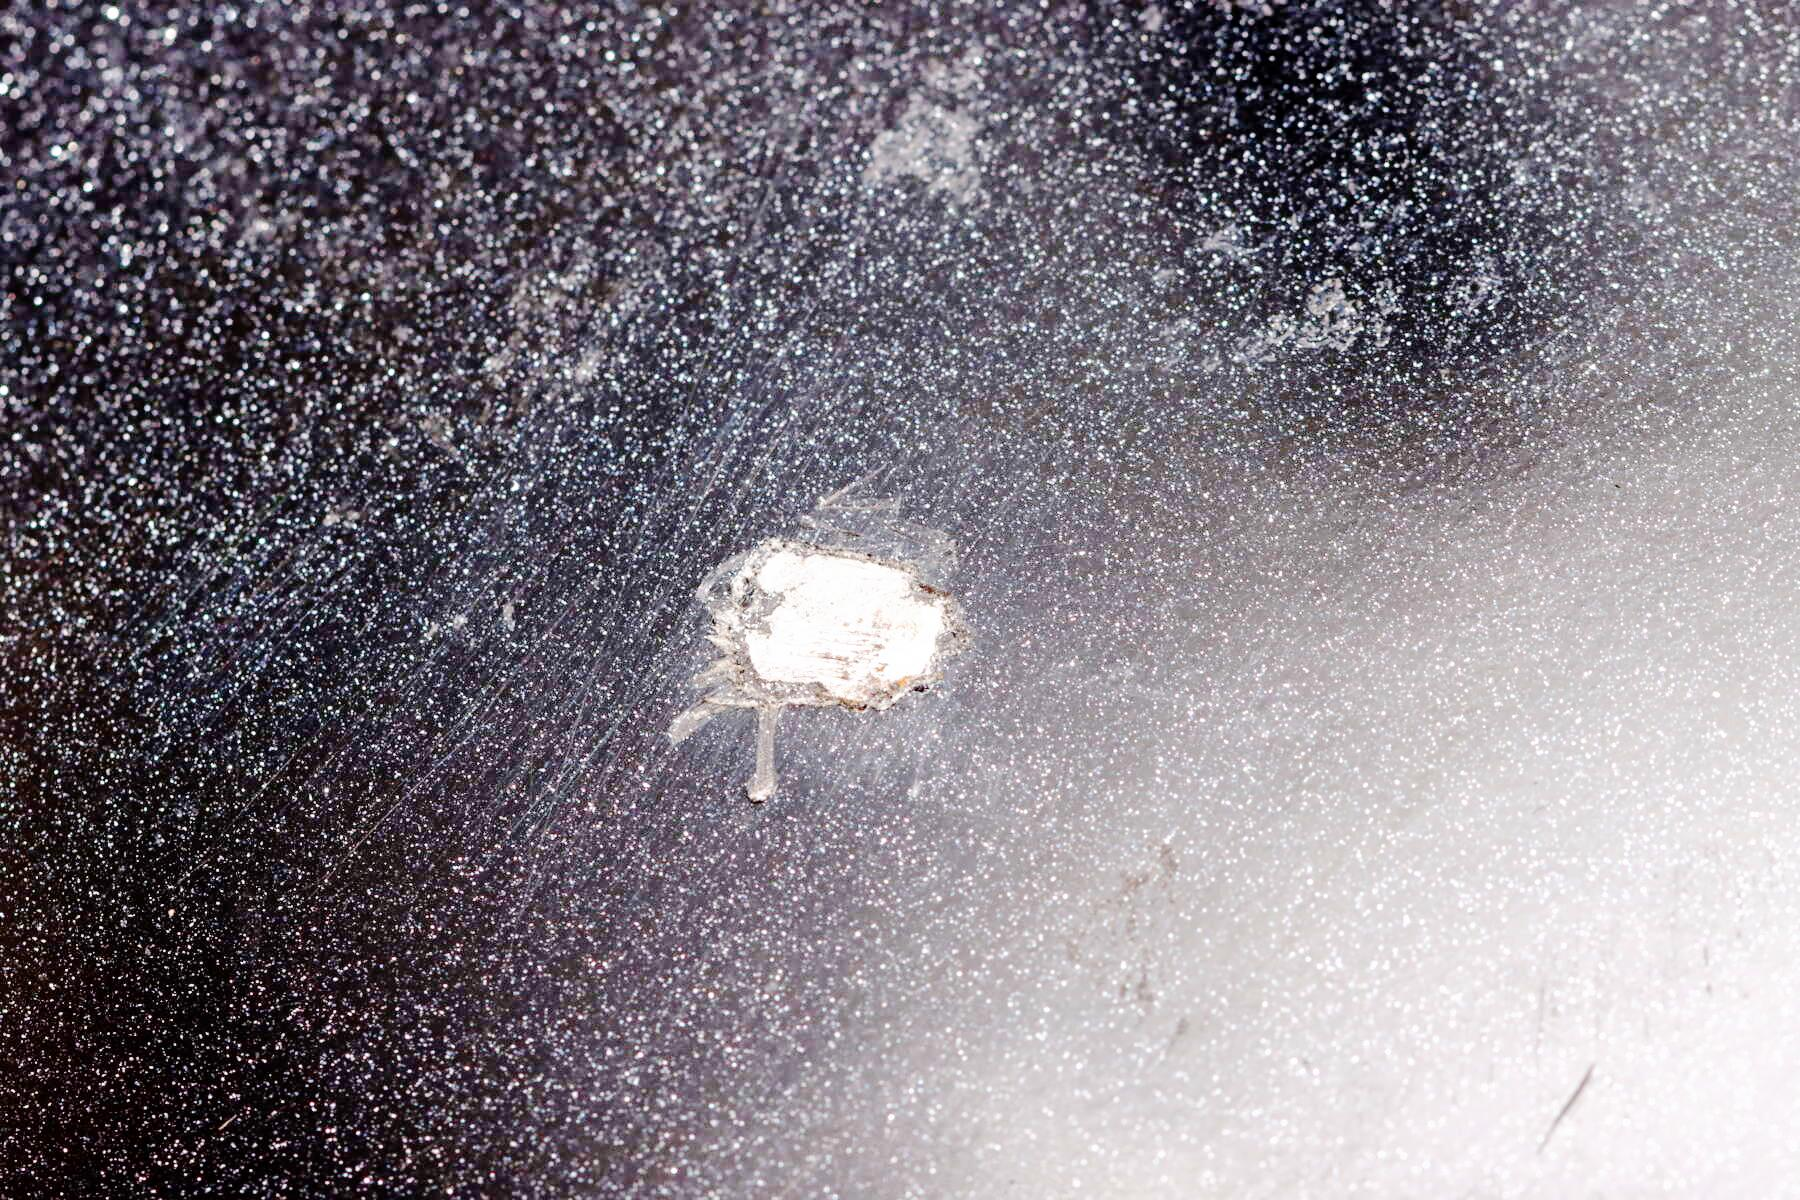Bird Poop: (670, 540, 966, 801)
